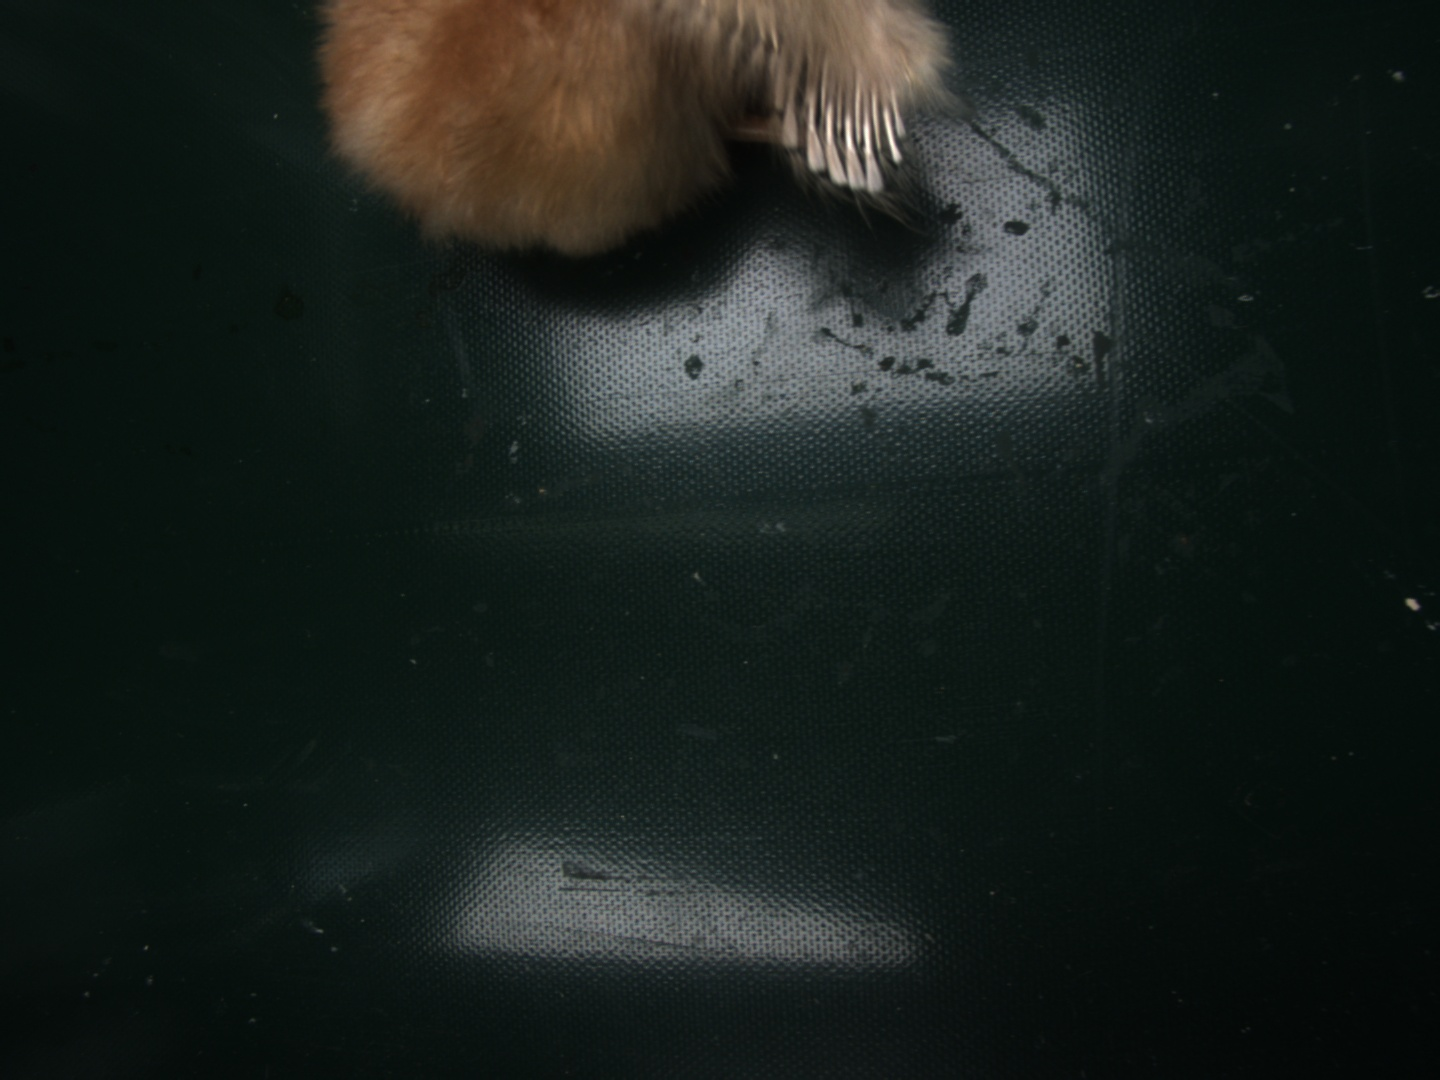female: (788, 57, 912, 192)
